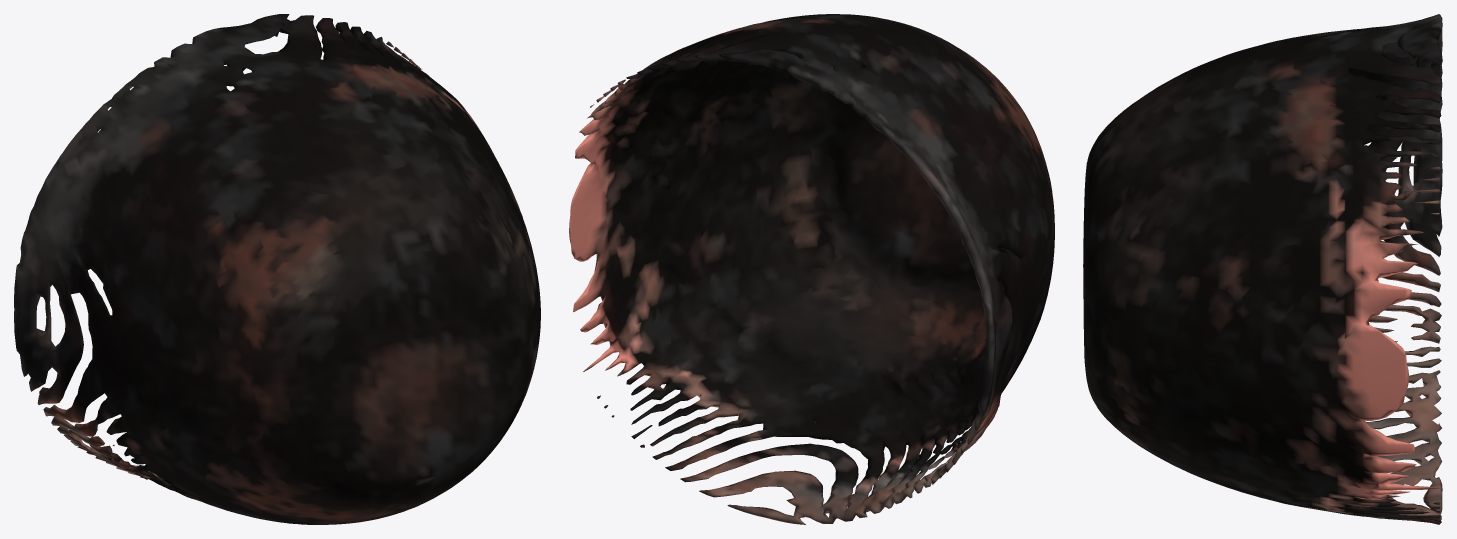
The model's file is a graspable hat.obj.
3 renders of one model, left to right at view 1: azimuth 30°, elevation 25°; view 2: azimuth 150°, elevation 25°; view 3: azimuth 270°, elevation 25°, orthographic.
Size of the model in its own units: 0.9829 by 0.9711 by 0.6832.
